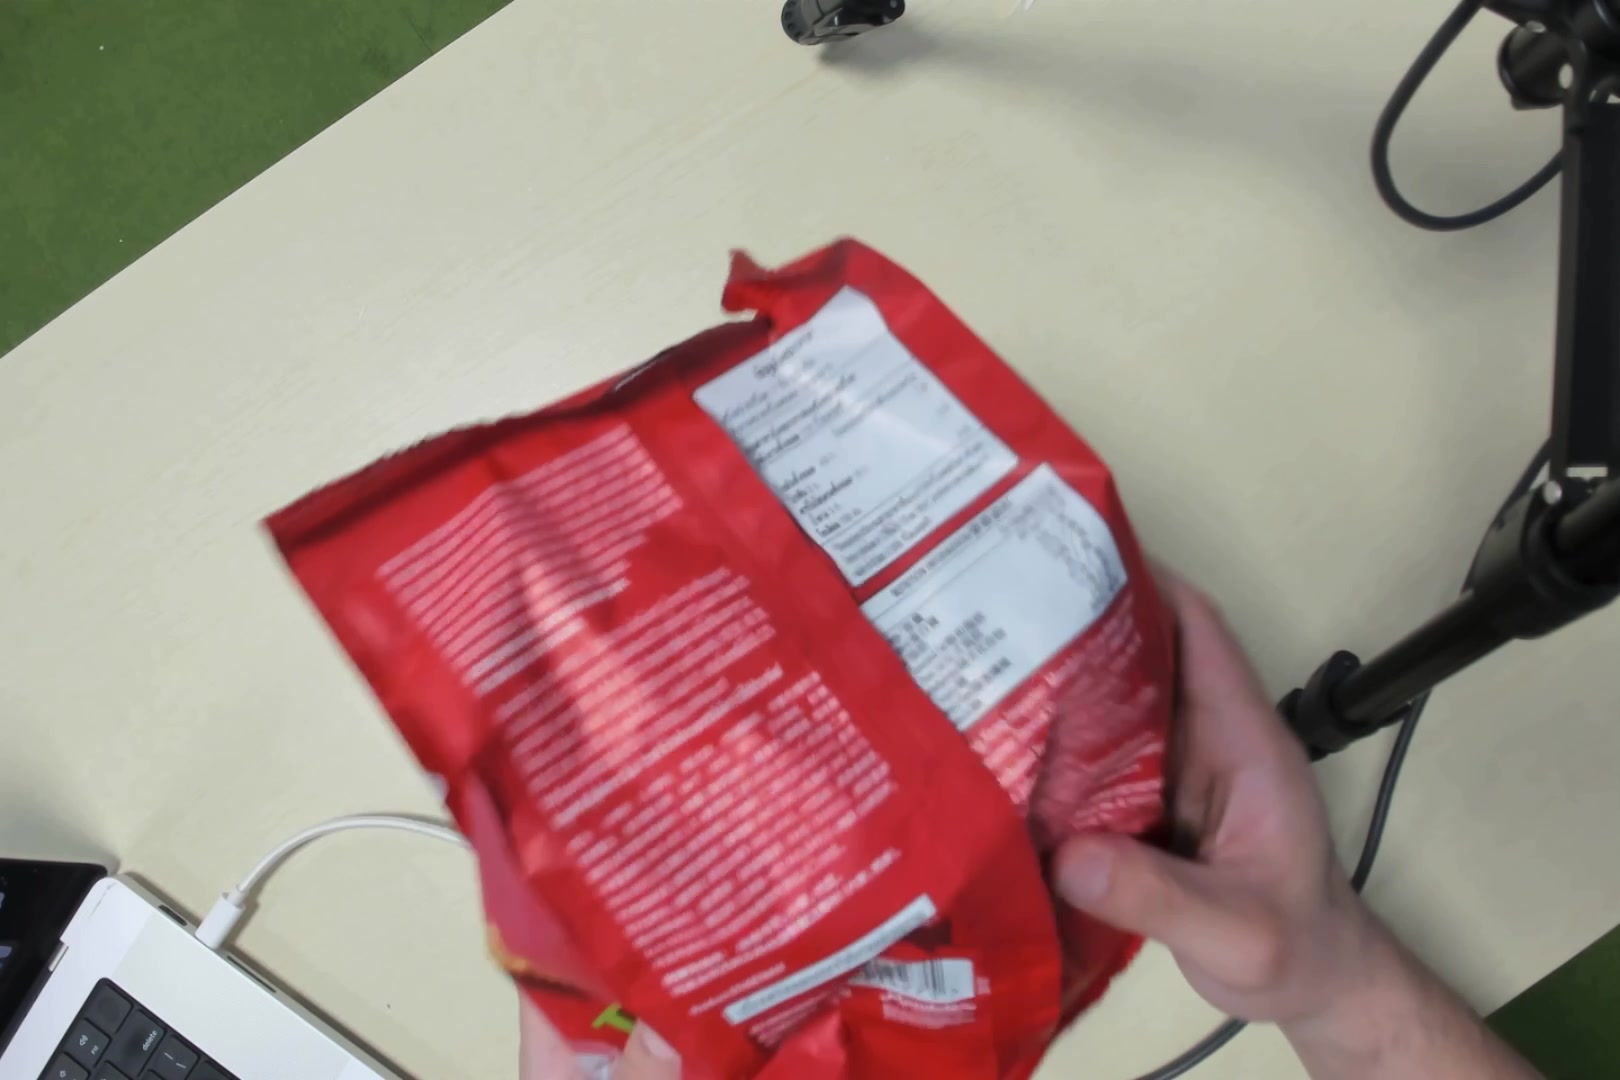BiscuitsCrackersCookies_200-299g_NonHalal_NonHealthy: (506, 324, 1125, 1047)
